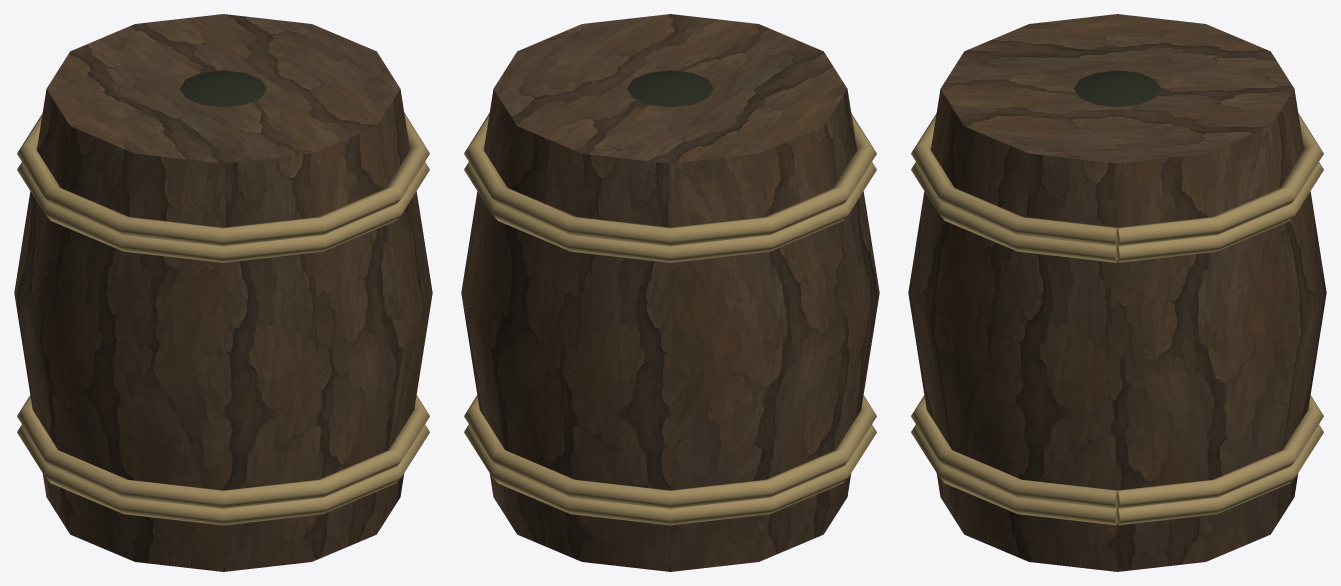
Rendered from source_4.glb.
The picture shows the model from 3 angles, left to right: view 1: azimuth 30°, elevation 25°; view 2: azimuth 150°, elevation 25°; view 3: azimuth 270°, elevation 25°; orthographic projection.
Visible parts, largest first — view 1: Wooden rain barrel; view 2: Wooden rain barrel; view 3: Wooden rain barrel.
Boxes of the visible parts, x1,y1,x2,y2 form: Wooden rain barrel: [14, 14, 432, 571]; Wooden rain barrel: [461, 14, 879, 571]; Wooden rain barrel: [908, 14, 1326, 571].
Size of the model in its own units: 1.3 by 1.4 by 1.3.
Materials: 3 (1 with a texture image).
